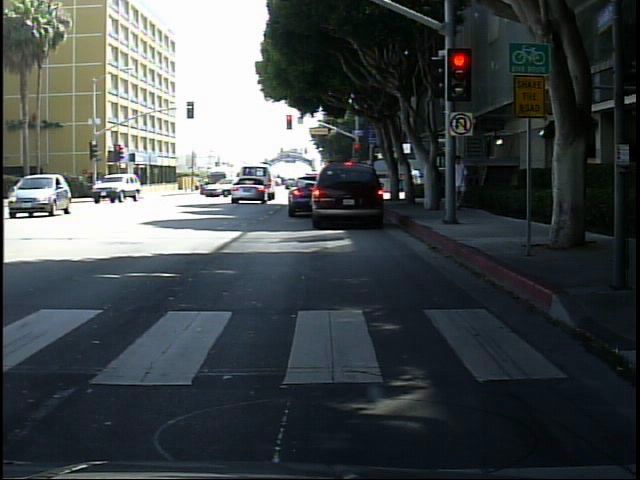person: (453, 153, 472, 219), (97, 175, 98, 201)
